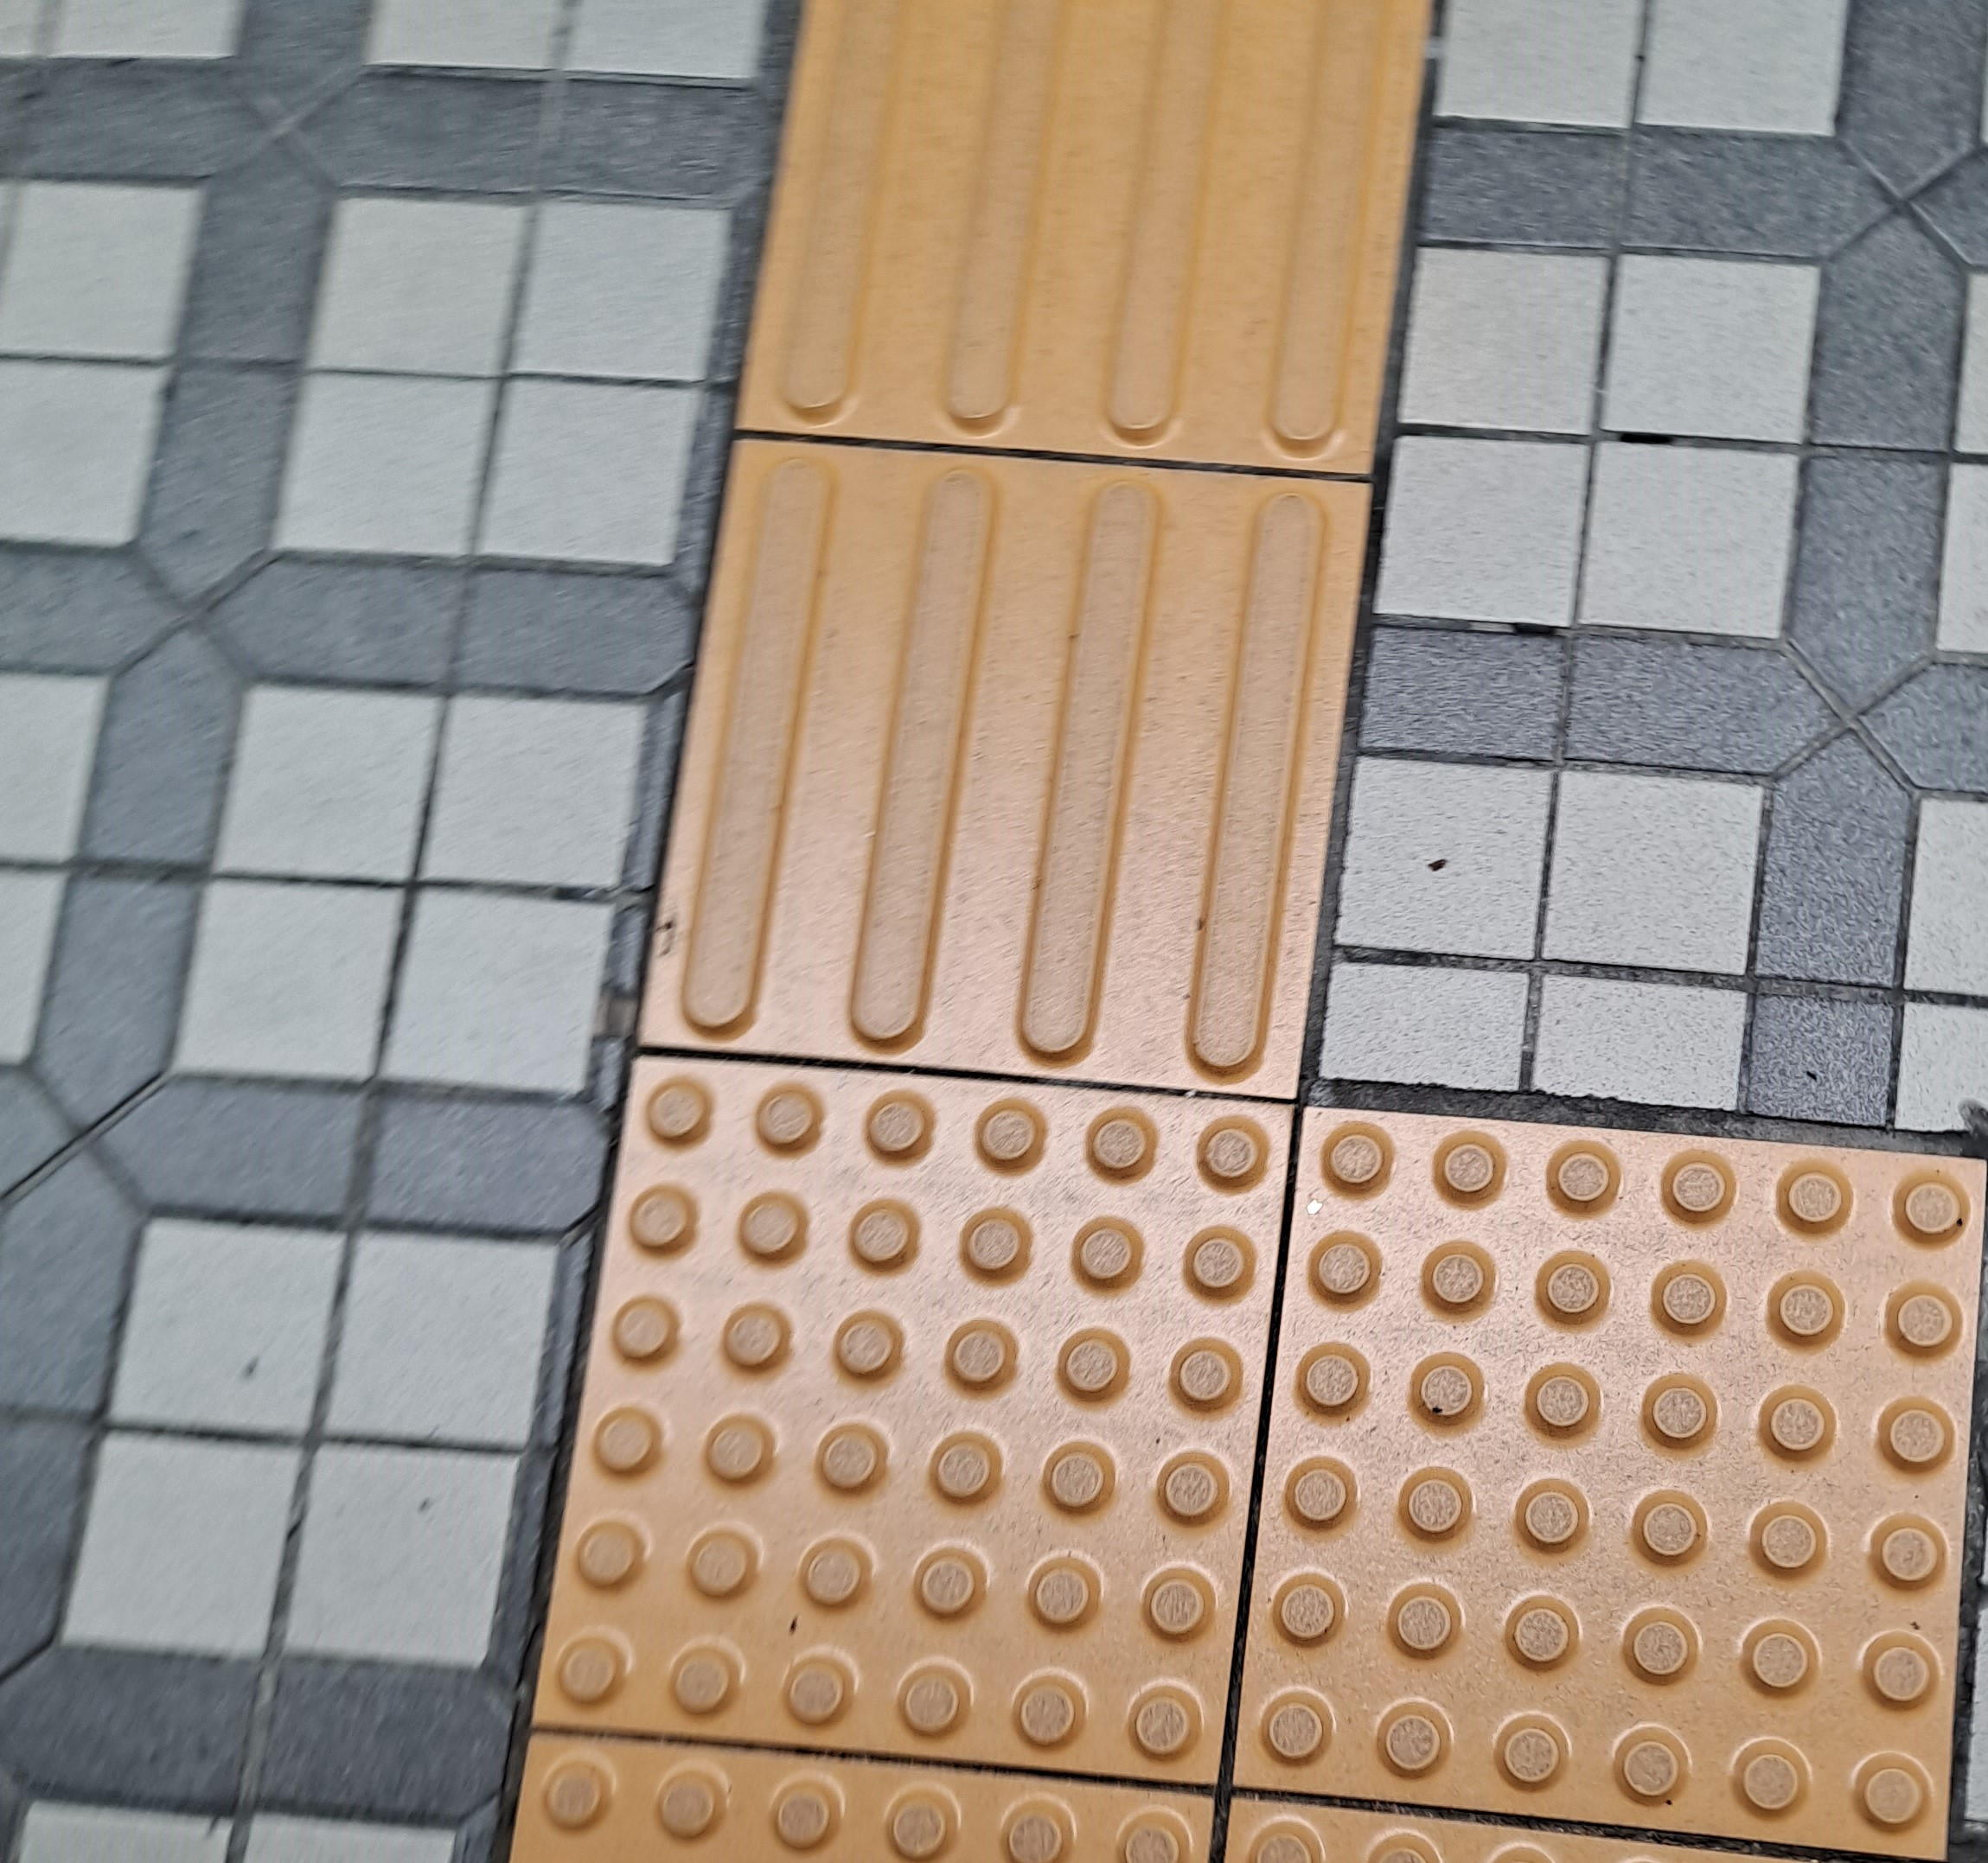guideBlock: (734, 436, 1284, 1086), (772, 12, 1382, 469)
warningBlock: (1289, 1114, 1960, 1824), (631, 1089, 1272, 1775)
